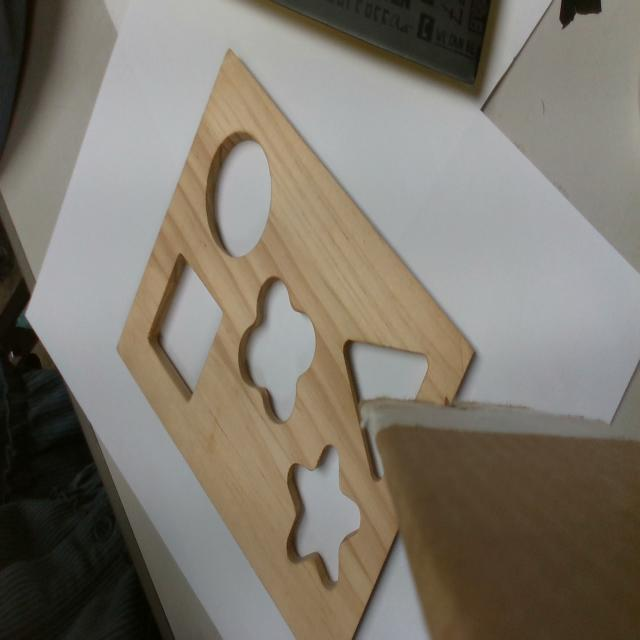circle: (205, 126, 271, 256)
flower: (236, 274, 317, 422)
square: (147, 250, 223, 399)
star: (286, 444, 362, 585)
triangle: (341, 338, 432, 482)
